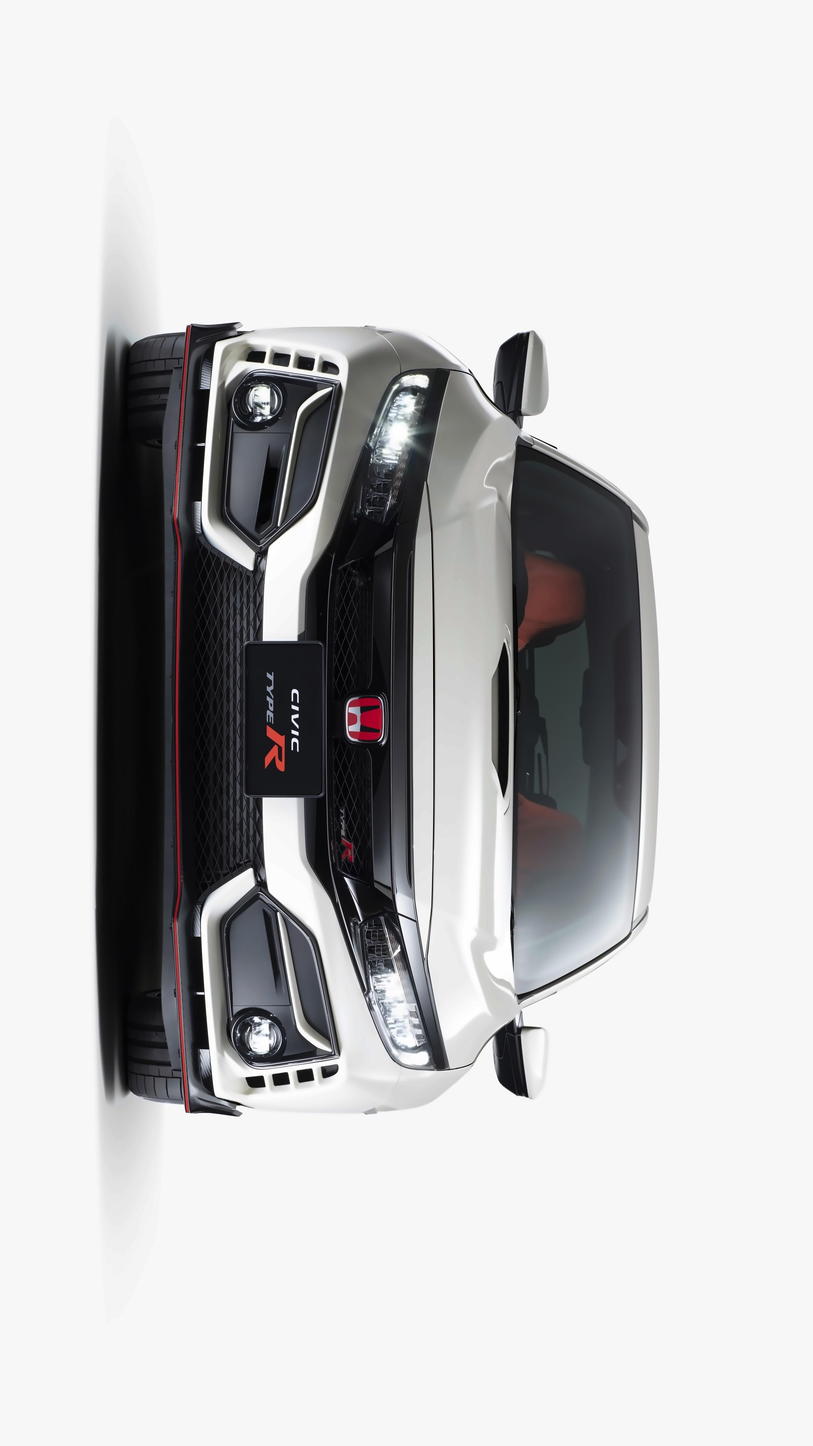Car hood: (407, 351, 526, 1070)
Front bumper: (161, 305, 367, 1134)
Headlight - -L-: (333, 865, 452, 1107)
Headlight - -R-: (336, 334, 454, 557)
Side mirror - -L-: (486, 1003, 567, 1119)
Side mirror - -R-: (463, 308, 587, 436)
